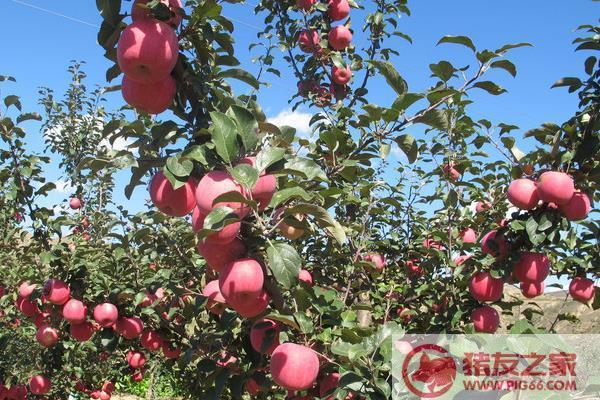apple: (118, 18, 177, 81), (270, 343, 318, 392), (197, 171, 248, 215), (218, 258, 263, 306), (404, 214, 456, 254), (122, 73, 174, 113), (150, 170, 195, 216), (193, 209, 237, 243), (538, 170, 573, 202), (512, 252, 548, 283), (506, 178, 539, 209), (470, 272, 501, 300), (469, 306, 500, 334), (564, 192, 589, 220), (44, 279, 71, 304), (569, 277, 597, 300), (327, 25, 351, 50), (63, 300, 87, 324), (93, 303, 117, 327), (119, 315, 141, 339), (520, 279, 545, 298), (140, 330, 162, 351), (29, 374, 51, 395), (37, 326, 58, 346), (332, 66, 351, 84), (126, 351, 145, 367), (68, 195, 80, 209)
